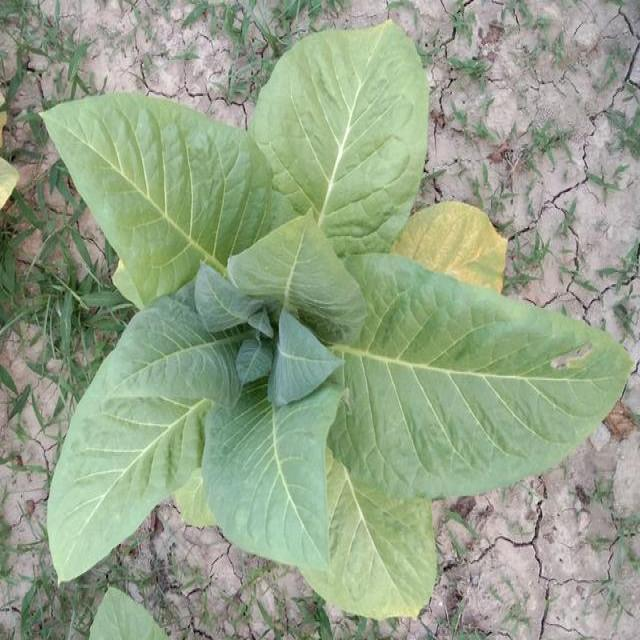crop: (46, 26, 607, 605), (72, 599, 167, 640)
